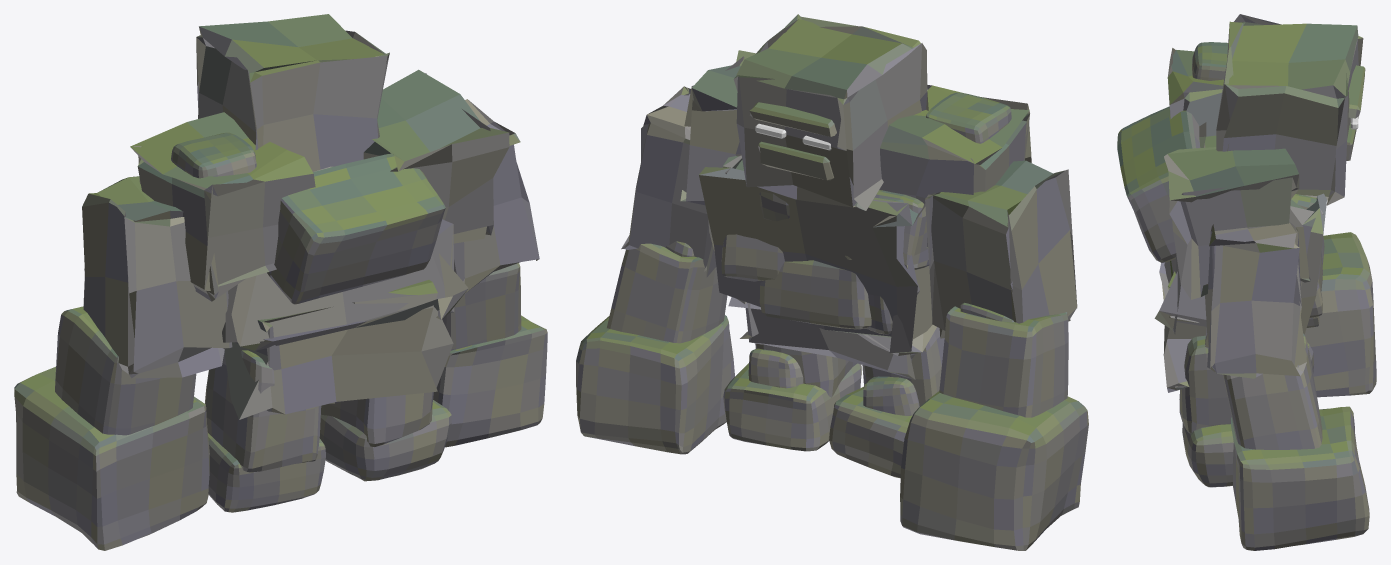
File: golem_dp_chunks_01.glb
The picture shows the model from 3 angles, left to right: view 1: azimuth 30°, elevation 25°; view 2: azimuth 150°, elevation 25°; view 3: azimuth 270°, elevation 25°; orthographic projection. The views are drawn at different scales.
Parts seen in each view (by area): view 1: chunk_head, chunk_arm_L_fist, chunk_arm_L_upper, chunk_back_hump, chunk_shoulder_L, chunk_pelvis, chunk_shoulder_R, chunk_chest, chunk_arm_R_fist, chunk_arm_L_forearm, chunk_leg_L_thigh, chunk_arm_R_upper (+5 smaller); view 2: chunk_head, chunk_arm_L_fist, chunk_arm_L_upper, chunk_chest, chunk_arm_R_fist, chunk_arm_L_forearm, chunk_shoulder_L, chunk_arm_R_forearm, chunk_arm_R_upper, chunk_leg_R_foot, chunk_pelvis_s01, chunk_shoulder_R (+13 smaller); view 3: chunk_head, chunk_arm_R_upper, chunk_arm_R_fist, chunk_shoulder_R, chunk_arm_L_fist, chunk_back_hump, chunk_arm_R_forearm, chunk_chest, chunk_leg_R_thigh, chunk_shoulder_L, chunk_leg_R_foot, chunk_pelvis (+2 smaller).
Boxes of the visible parts, x1,y1,x2,y2 form: chunk_head: (196,14,389,171); chunk_arm_L_fist: (14,366,209,550); chunk_arm_L_upper: (82,176,232,378); chunk_back_hump: (267,153,445,304); chunk_shoulder_L: (130,112,315,301); chunk_pelvis: (224,280,453,419); chunk_shoulder_R: (363,69,509,243); chunk_chest: (222,166,468,350); chunk_arm_R_fist: (433,315,547,447); chunk_arm_L_forearm: (55,306,196,435); chunk_leg_L_thigh: (204,350,321,472); chunk_arm_R_upper: (453,99,539,293); chunk_head: (733,14,928,210); chunk_arm_L_fist: (900,391,1088,550); chunk_arm_L_upper: (925,160,1077,338); chunk_chest: (699,155,936,355); chunk_arm_R_fist: (576,315,734,454); chunk_arm_L_forearm: (939,306,1068,417); chunk_shoulder_L: (879,85,1031,247); chunk_arm_R_forearm: (607,242,727,343); chunk_arm_R_upper: (621,86,716,277); chunk_leg_R_foot: (723,363,861,451); chunk_pelvis_s01: (759,260,871,329); chunk_shoulder_R: (680,50,755,205); chunk_head: (1216,14,1363,205); chunk_arm_R_upper: (1205,222,1306,378); chunk_arm_R_fist: (1230,406,1369,550); chunk_shoulder_R: (1164,147,1310,299); chunk_arm_L_fist: (1304,232,1376,397); chunk_back_hump: (1117,106,1205,262); chunk_arm_R_forearm: (1223,333,1322,449); chunk_chest: (1154,122,1326,334); chunk_leg_R_thigh: (1179,335,1231,433); chunk_shoulder_L: (1167,48,1223,136); chunk_leg_R_foot: (1182,423,1233,487); chunk_pelvis: (1163,261,1206,392).
Size of the model in its own units: 3.1 by 2.73 by 1.55.
